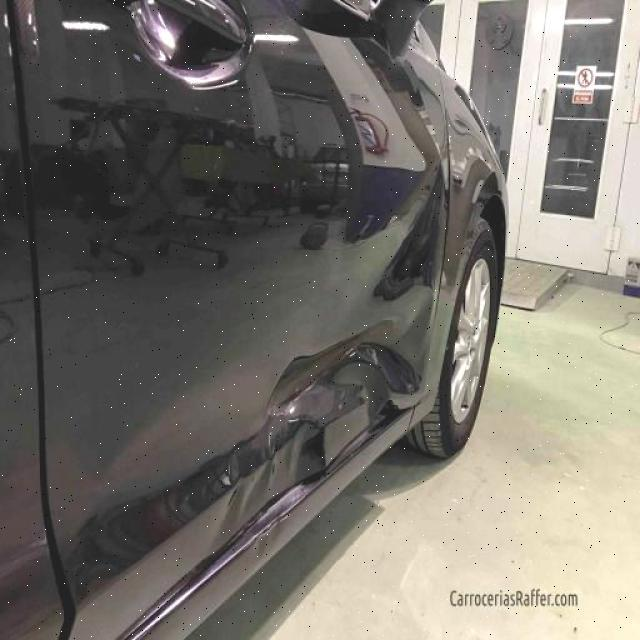car damage: (222, 335, 423, 556)
